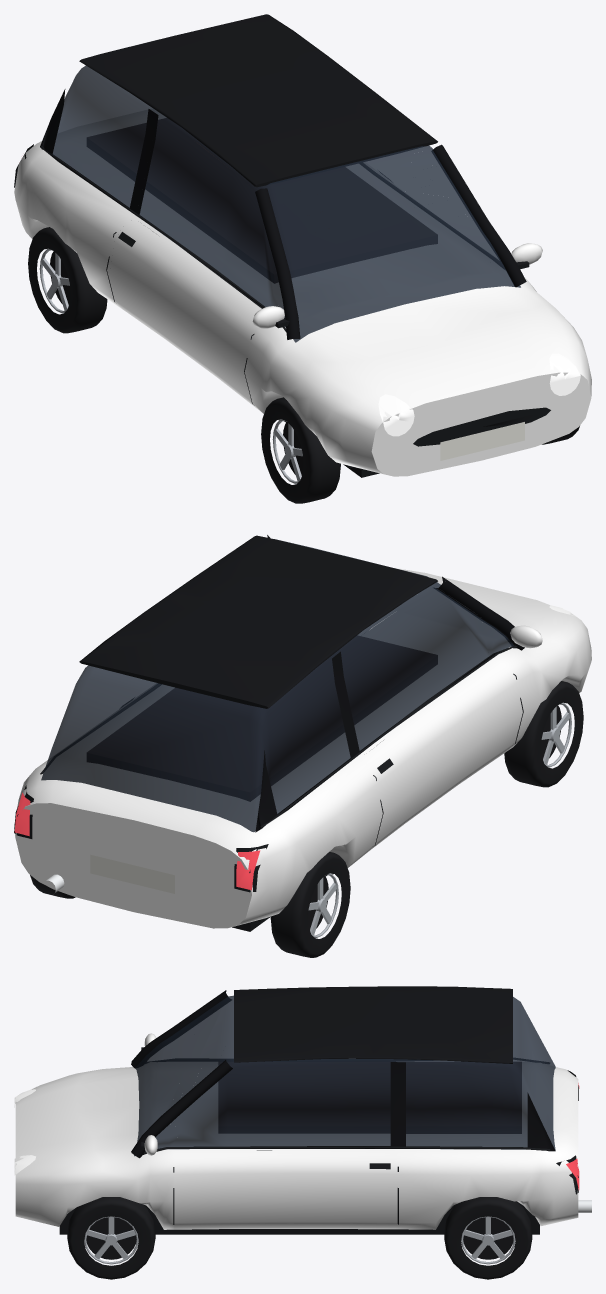
File: norda_pixi.lod.glb
The picture shows the model from 3 angles, top to bottom: view 1: azimuth 30°, elevation 25°; view 2: azimuth 150°, elevation 25°; view 3: azimuth 270°, elevation 25°; orthographic projection. The views are drawn at different scales.
Visible parts, largest first — view 1: body_paint, body_glass, body_roof, body_trim, door_glass (×2), door_paint, tire (×2), body_pillar, headlights, rim (×2), door_pillar; view 2: body_paint, body_glass, body_roof, body_trim, door_glass, door_paint, tire (×2), body_pillar, rim (×2), taillights, door_pillar, mirror_r_paint; view 3: body_paint, body_trim, body_roof, body_glass, door_glass (×2), door_paint, tire (×2), body_pillar, rim_back (×2), rim (×2), door_pillar.
Boxes of the visible parts, x1,y1,x2,y2 form: body_paint: [14, 109, 591, 476]; body_glass: [52, 65, 520, 342]; body_roof: [79, 14, 437, 187]; body_trim: [14, 118, 550, 477]; door_glass (×2): [140, 117, 479, 306]; door_paint: [109, 218, 259, 410]; tire (×2): [28, 227, 340, 503]; body_pillar: [40, 89, 526, 339]; headlights: [378, 353, 580, 436]; rim (×2): [39, 248, 302, 484]; door_pillar: [137, 113, 281, 266]; body_paint: [14, 569, 591, 928]; body_glass: [41, 539, 513, 832]; body_roof: [79, 535, 437, 708]; body_trim: [14, 636, 523, 931]; door_glass: [341, 582, 493, 750]; door_paint: [360, 659, 521, 850]; tire (×2): [270, 681, 583, 957]; body_pillar: [255, 535, 524, 832]; rim (×2): [308, 702, 571, 938]; taillights: [14, 792, 260, 890]; door_pillar: [338, 578, 488, 752]; mirror_r_paint: [510, 625, 542, 648]; body_paint: [15, 1062, 578, 1229]; body_trim: [59, 1058, 578, 1234]; body_roof: [234, 986, 512, 1063]; body_glass: [134, 995, 555, 1156]; door_glass (×2): [169, 997, 390, 1149]; door_paint: [174, 1151, 394, 1229]; tire (×2): [67, 1197, 532, 1279]; body_pillar: [131, 990, 555, 1158]; rim_back (×2): [86, 1217, 513, 1259]; rim (×2): [84, 1216, 515, 1264]; door_pillar: [175, 1062, 394, 1146].
Size of the model in its own units: 1.78 by 1.5 by 3.8.
